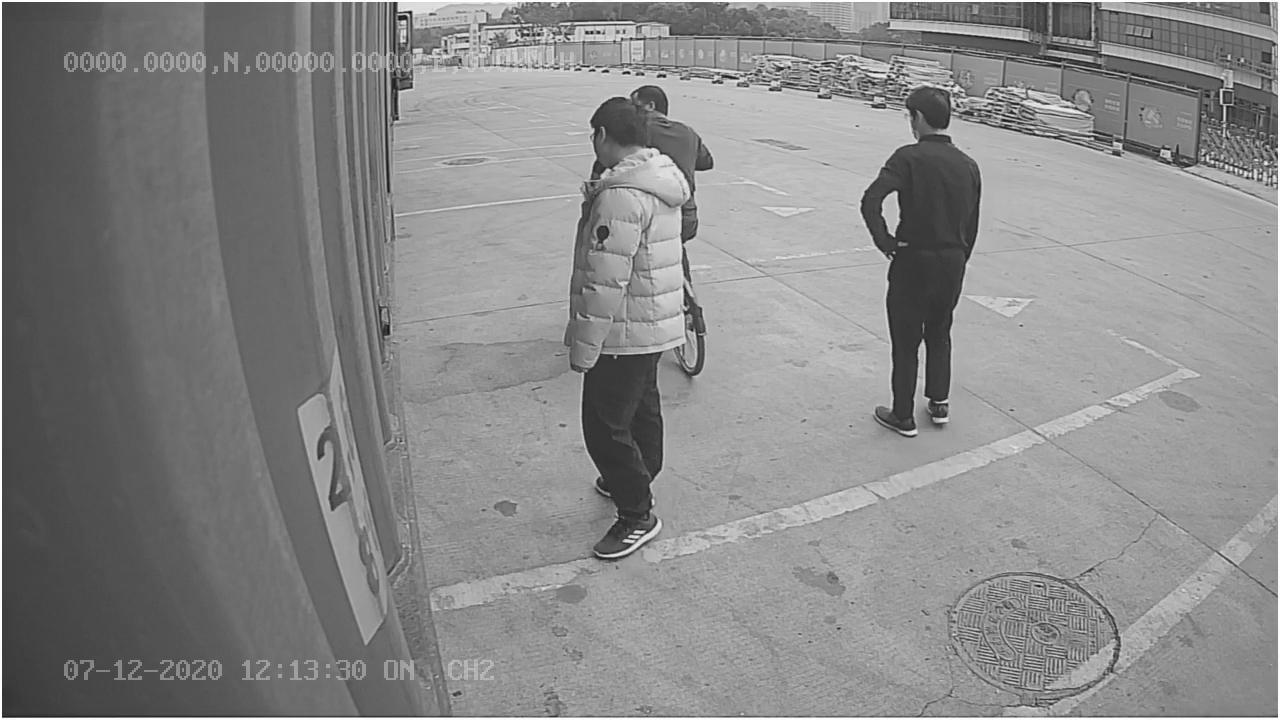person: (858, 84, 984, 434)
